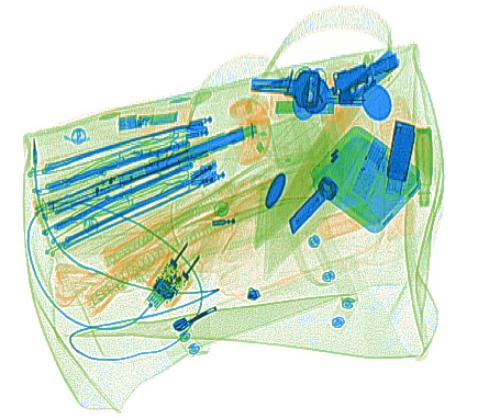USBFlashDisk: (383, 114, 417, 197), (352, 137, 390, 199), (275, 95, 338, 119), (114, 109, 179, 132)
